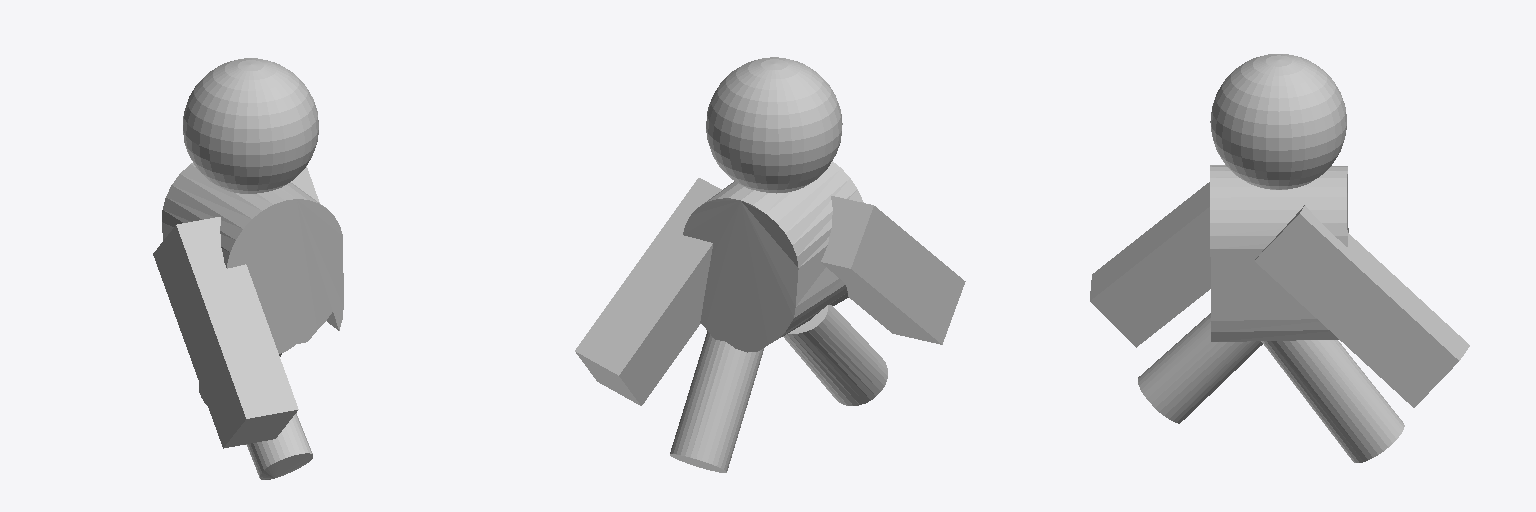
Rendered from Figurine120.obj.
3 views of the same model, side by side, from view 1: azimuth 30°, elevation 25°; view 2: azimuth 150°, elevation 25°; view 3: azimuth 270°, elevation 25° (orthographic).
Parts seen in each view (by area): view 1: Cylinder; view 2: Cylinder; view 3: Cylinder.
Boxes of the visible parts, x1=… form: Cylinder: x1=153, y1=58, x2=343, y2=479; Cylinder: x1=575, y1=57, x2=965, y2=472; Cylinder: x1=1090, y1=54, x2=1469, y2=462.
Bounding box in the file's own units: 3.49 × 6.23 × 5.56.